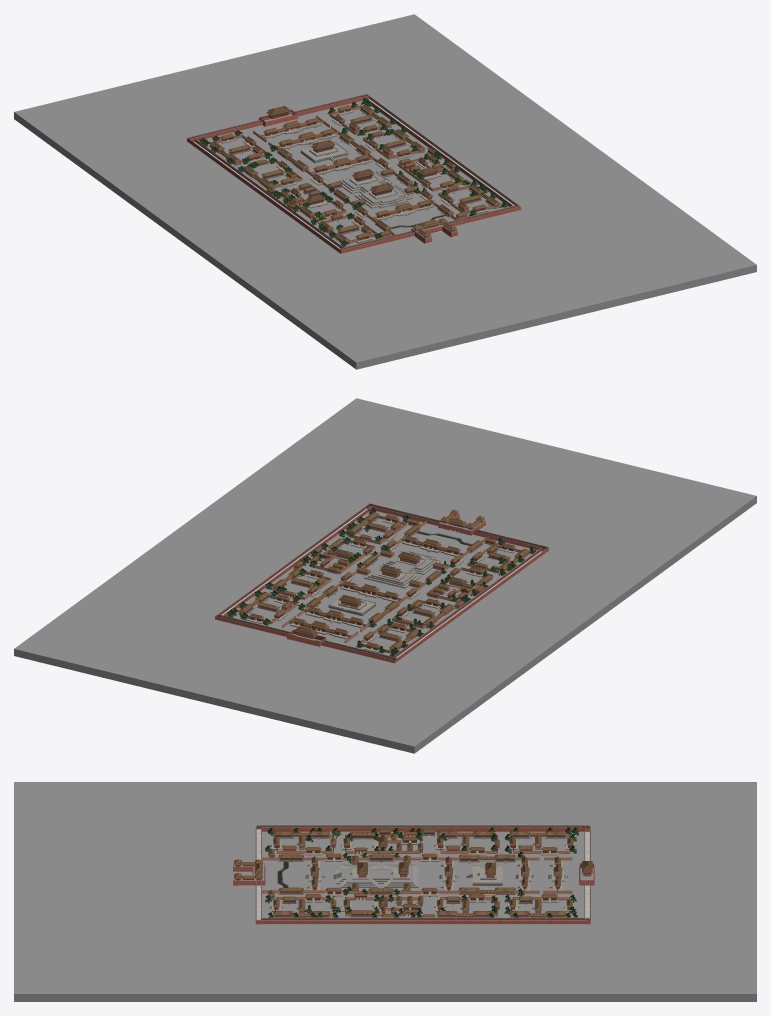
3 renders of one model, top to bottom at view 1: azimuth 30°, elevation 25°; view 2: azimuth 150°, elevation 25°; view 3: azimuth 270°, elevation 25°, orthographic. The views are drawn at different scales.
Parts seen in each view (by area): view 1: 3DXY_geometry_089, 3DXY_geometry_087, 3DXY_geometry_009, 3DXY_geometry_047, 3DXY_geometry_028, 3DXY_geometry_035, 3DXY_geometry_037, 3DXY_geometry_036, 3DXY_geometry_082, 3DXY_geometry_083, 3DXY_geometry_042, 3DXY_geometry_056 (+6 smaller); view 2: 3DXY_geometry_089, 3DXY_geometry_087, 3DXY_geometry_009, 3DXY_geometry_047, 3DXY_geometry_028, 3DXY_geometry_035, 3DXY_geometry_037, 3DXY_geometry_036, 3DXY_geometry_083, 3DXY_geometry_082, 3DXY_geometry_058, 3DXY_geometry_056 (+5 smaller); view 3: 3DXY_geometry_089, 3DXY_geometry_087, 3DXY_geometry_009, 3DXY_geometry_047, 3DXY_geometry_035, 3DXY_geometry_028, 3DXY_geometry_037, 3DXY_geometry_036, 3DXY_geometry_082, 3DXY_geometry_083, 3DXY_geometry_033, 3DXY_geometry_056 (+18 smaller).
Part boxes in pixels (<box>): 3DXY_geometry_089: <box>14,14,756,369</box>; 3DXY_geometry_087: <box>186,101,487,231</box>; 3DXY_geometry_009: <box>187,94,521,253</box>; 3DXY_geometry_047: <box>209,105,500,241</box>; 3DXY_geometry_028: <box>219,105,488,237</box>; 3DXY_geometry_035: <box>188,94,520,250</box>; 3DXY_geometry_037: <box>210,105,494,242</box>; 3DXY_geometry_036: <box>218,110,488,242</box>; 3DXY_geometry_082: <box>199,130,382,246</box>; 3DXY_geometry_083: <box>327,98,508,216</box>; 3DXY_geometry_042: <box>266,106,438,202</box>; 3DXY_geometry_056: <box>209,109,500,245</box>; 3DXY_geometry_089: <box>14,398,756,753</box>; 3DXY_geometry_087: <box>214,528,509,664</box>; 3DXY_geometry_009: <box>214,504,549,663</box>; 3DXY_geometry_047: <box>238,512,529,649</box>; 3DXY_geometry_028: <box>249,510,518,647</box>; 3DXY_geometry_035: <box>216,503,548,658</box>; 3DXY_geometry_037: <box>240,515,521,653</box>; 3DXY_geometry_036: <box>247,519,524,651</box>; 3DXY_geometry_083: <box>227,508,410,625</box>; 3DXY_geometry_082: <box>356,537,535,656</box>; 3DXY_geometry_058: <box>258,525,529,649</box>; 3DXY_geometry_056: <box>238,518,529,651</box>; 3DXY_geometry_089: <box>14,782,756,1001</box>; 3DXY_geometry_087: <box>311,829,592,924</box>; 3DXY_geometry_009: <box>255,825,594,924</box>; 3DXY_geometry_047: <box>268,829,566,917</box>; 3DXY_geometry_035: <box>233,825,589,920</box>; 3DXY_geometry_028: <box>234,833,573,915</box>; 3DXY_geometry_037: <box>261,834,572,916</box>; 3DXY_geometry_036: <box>271,836,575,915</box>; 3DXY_geometry_082: <box>265,827,578,862</box>; 3DXY_geometry_083: <box>265,886,577,917</box>; 3DXY_geometry_033: <box>254,865,502,886</box>; 3DXY_geometry_056: <box>270,835,566,917</box>.
Size of the model in its own units: 2941 by 167 by 4356.
Materials: 65 (60 with a texture image).
